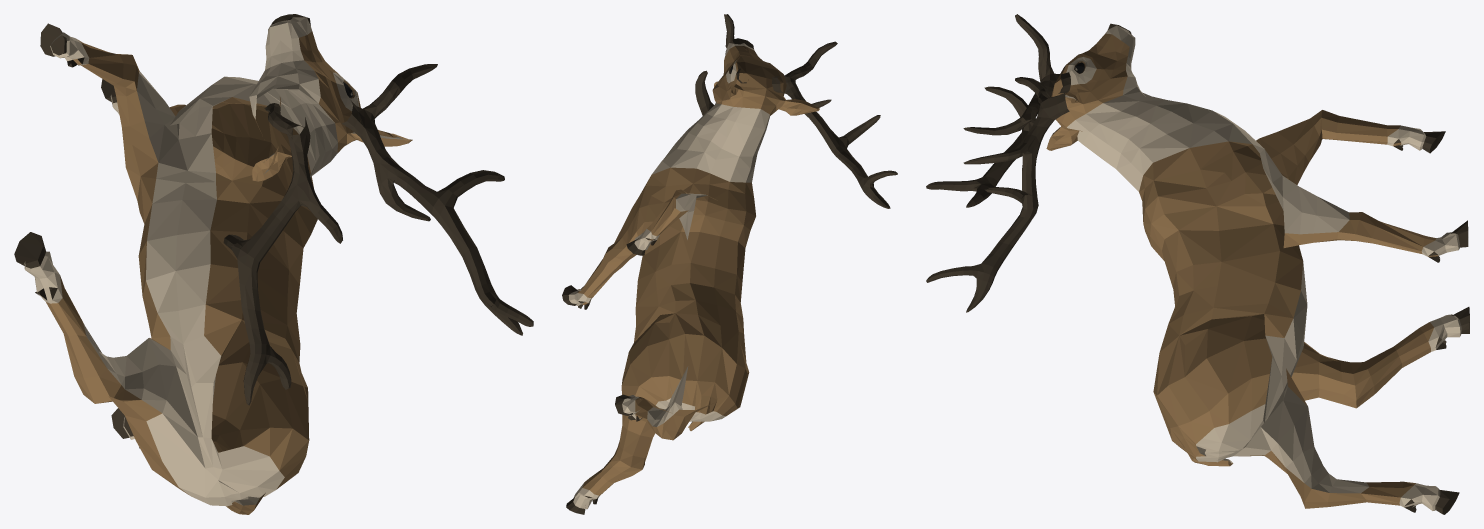
Rendered from stag-walk-5.glb.
The picture shows the model from 3 angles, left to right: view 1: azimuth 30°, elevation 25°; view 2: azimuth 150°, elevation 25°; view 3: azimuth 270°, elevation 25°; orthographic projection. The views are drawn at different scales.
Bounding box in the file's own units: 0.865 × 1.74 × 1.83.
